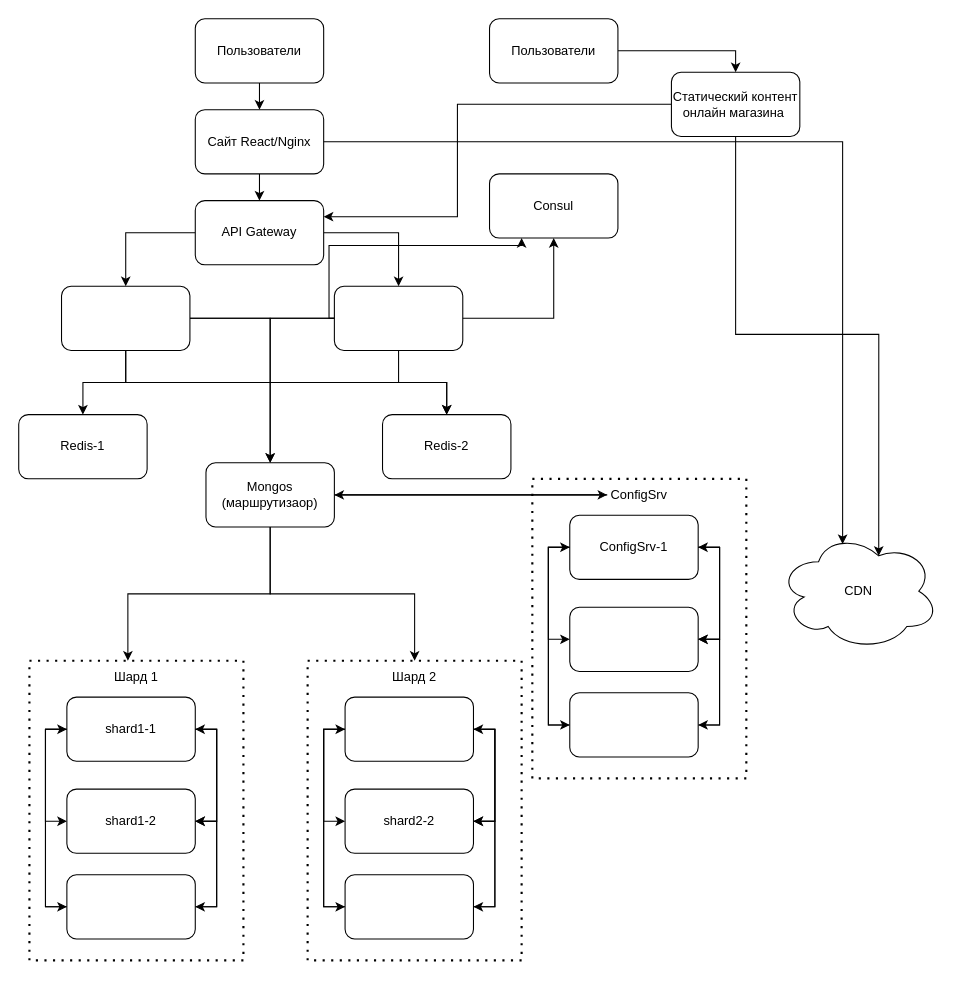
This 958x981 diagram has some shape labels left out. Each missing label, with the centre of its shape:
ConfigSrv-2: the point at 633,638
ConfigSrv-3: the point at 633,724
pymongo-api-1: the point at 125,317
pymongo-api-2: the point at 398,317
shard1-3: the point at 130,906
shard2-1: the point at 408,728
shard2-3: the point at 408,906
